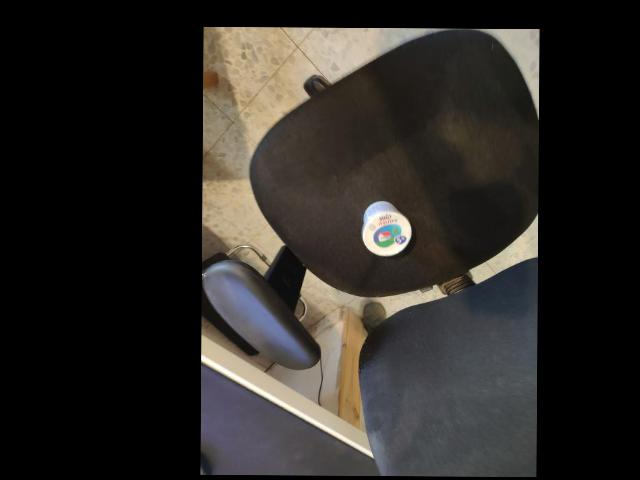cotage: (359, 189, 421, 259)
